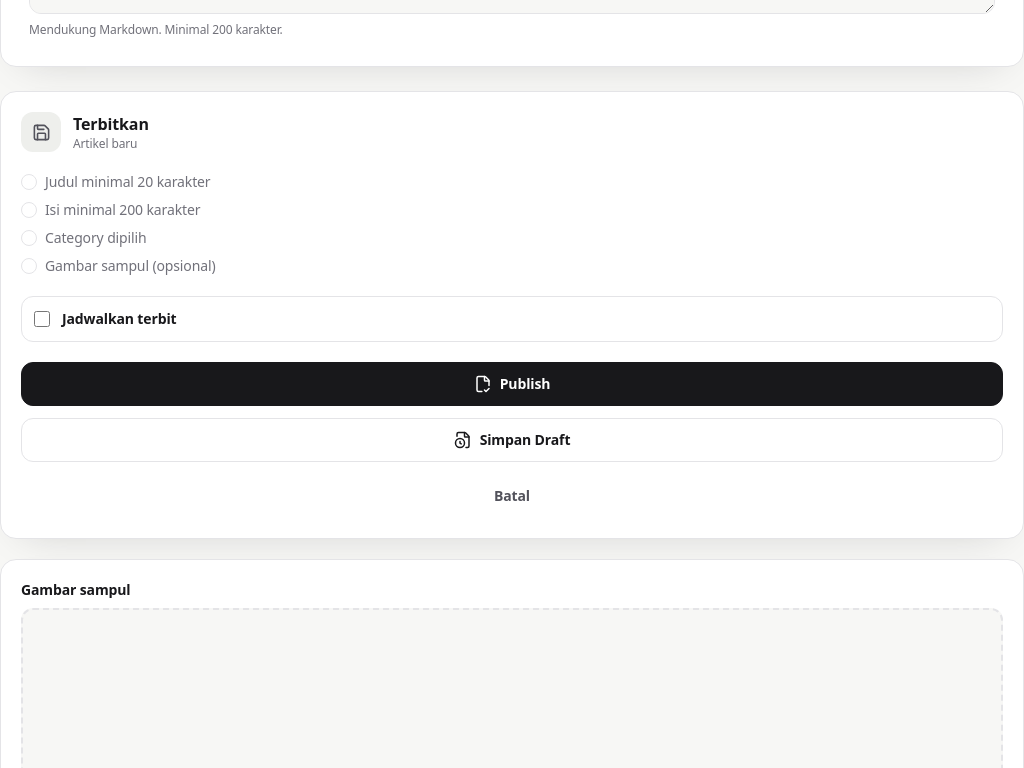
Test: ArticleForm › menampilkan validasi field sebelum submit
(page scrolled)
Click the button "Publish" at (512, 384), box [21,362,1003,406]
(page scrolled)
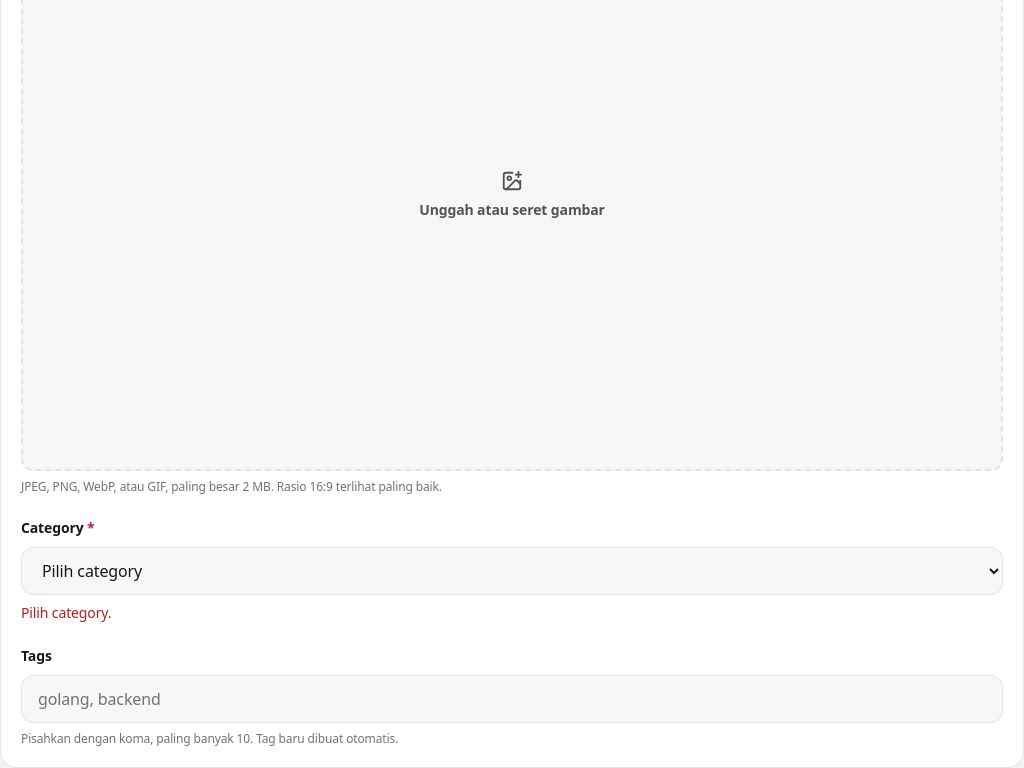
Expected: the text "Pilih category." is shown, [21,603,111,622]
